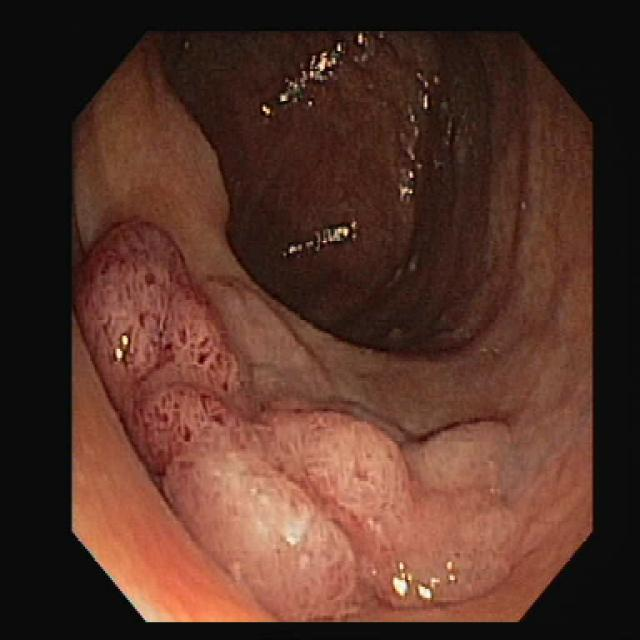tumor: (75, 218, 522, 618)
